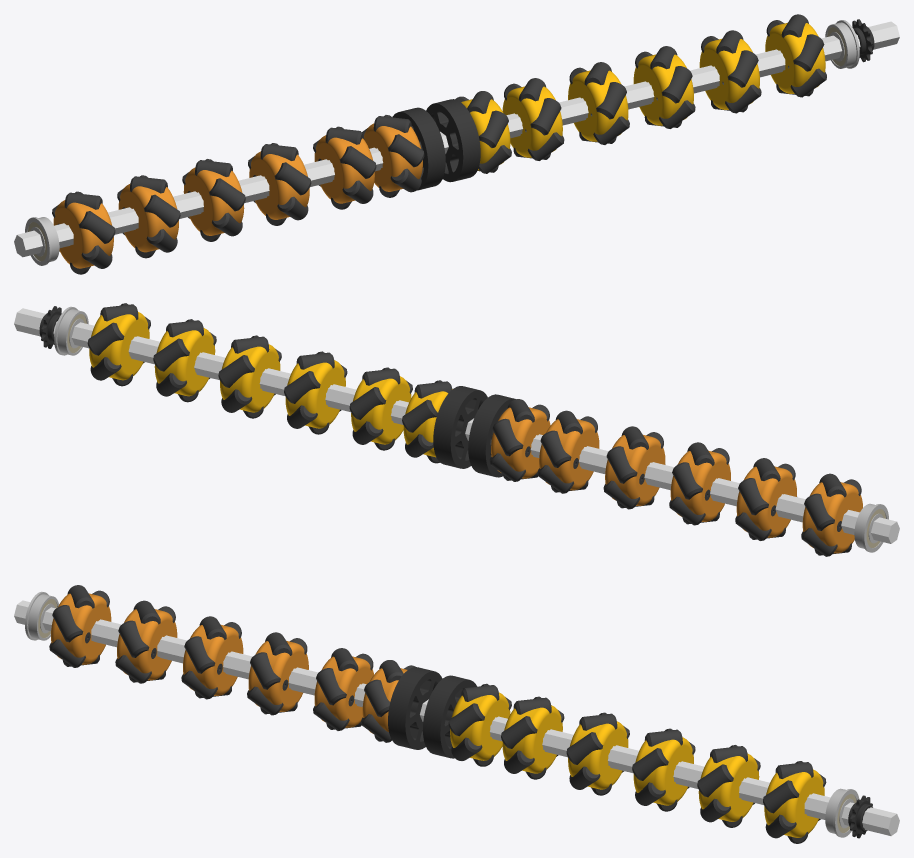
3 views of the same model, one above another, from view 1: azimuth 30°, elevation 25°; view 2: azimuth 150°, elevation 25°; view 3: azimuth 330°, elevation 25° (orthographic).
Parts seen in each view (by area): view 1: 2" Vectored Intake Wheel (Right-Hand, 1/2" Hex Bore, Orange) (×6), 2" Vectored Intake Wheel (Left-Hand, 1/2" Hex Bore, Yellow) (×6), 1/2" Hex (25" L, 7075 Aluminum), 2" Thrifty Squish Wheel (45A, 1" Wide, 1/2" Hex Bore) (×2), 1/2" Hex Bore Bearing (1.125" OD, 0.313" WD, Shielded, Flang (×2), 12t Steel Sprocket (#25, 1/2" Rounded Hex Bore, Double Hub); view 2: 2" Vectored Intake Wheel (Right-Hand, 1/2" Hex Bore, Orange) (×6), 2" Vectored Intake Wheel (Left-Hand, 1/2" Hex Bore, Yellow) (×6), 1/2" Hex (25" L, 7075 Aluminum), 2" Thrifty Squish Wheel (45A, 1" Wide, 1/2" Hex Bore) (×2), 1/2" Hex Bore Bearing (1.125" OD, 0.313" WD, Shielded, Flang (×2), 12t Steel Sprocket (#25, 1/2" Rounded Hex Bore, Double Hub); view 3: 2" Vectored Intake Wheel (Left-Hand, 1/2" Hex Bore, Yellow) (×6), 2" Vectored Intake Wheel (Right-Hand, 1/2" Hex Bore, Orange) (×6), 1/2" Hex (25" L, 7075 Aluminum), 2" Thrifty Squish Wheel (45A, 1" Wide, 1/2" Hex Bore) (×2), 1/2" Hex Bore Bearing (1.125" OD, 0.313" WD, Shielded, Flang (×2), 12t Steel Sprocket (#25, 1/2" Rounded Hex Bore, Double Hub).
Boxes of the visible parts, x1,y1,x2,y2 form: 2" Vectored Intake Wheel (Right-Hand, 1/2" Hex Bore, Orange) (×6): [52, 115, 424, 274]; 2" Vectored Intake Wheel (Left-Hand, 1/2" Hex Bore, Yellow) (×6): [455, 14, 826, 173]; 1/2" Hex (25" L, 7075 Aluminum): [14, 21, 899, 257]; 2" Thrifty Squish Wheel (45A, 1" Wide, 1/2" Hex Bore) (×2): [392, 99, 480, 190]; 1/2" Hex Bore Bearing (1.125" OD, 0.313" WD, Shielded, Flang (×2): [25, 20, 859, 265]; 12t Steel Sprocket (#25, 1/2" Rounded Hex Bore, Double Hub): [852, 19, 874, 62]; 2" Vectored Intake Wheel (Right-Hand, 1/2" Hex Bore, Orange) (×6): [489, 399, 862, 556]; 2" Vectored Intake Wheel (Left-Hand, 1/2" Hex Bore, Yellow) (×6): [87, 303, 452, 463]; 1/2" Hex (25" L, 7075 Aluminum): [14, 308, 899, 543]; 2" Thrifty Squish Wheel (45A, 1" Wide, 1/2" Hex Bore) (×2): [433, 386, 515, 477]; 1/2" Hex Bore Bearing (1.125" OD, 0.313" WD, Shielded, Flang (×2): [54, 306, 888, 552]; 12t Steel Sprocket (#25, 1/2" Rounded Hex Bore, Double Hub): [39, 306, 61, 348]; 2" Vectored Intake Wheel (Left-Hand, 1/2" Hex Bore, Yellow) (×6): [448, 683, 826, 843]; 2" Vectored Intake Wheel (Right-Hand, 1/2" Hex Bore, Orange) (×6): [49, 585, 415, 742]; 1/2" Hex (25" L, 7075 Aluminum): [14, 600, 899, 835]; 2" Thrifty Squish Wheel (45A, 1" Wide, 1/2" Hex Bore) (×2): [388, 667, 476, 758]; 1/2" Hex Bore Bearing (1.125" OD, 0.313" WD, Shielded, Flang (×2): [25, 591, 859, 837]; 12t Steel Sprocket (#25, 1/2" Rounded Hex Bore, Double Hub): [848, 795, 872, 838].
Size of the model in its own units: 0.635 by 0.0508 by 0.0533.
